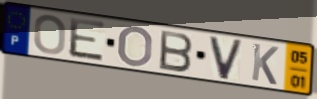B: (158, 29, 195, 74)
E: (68, 16, 107, 64)
K: (249, 42, 280, 88)
O: (116, 24, 155, 68), (32, 13, 68, 56)
V: (208, 35, 245, 82)
